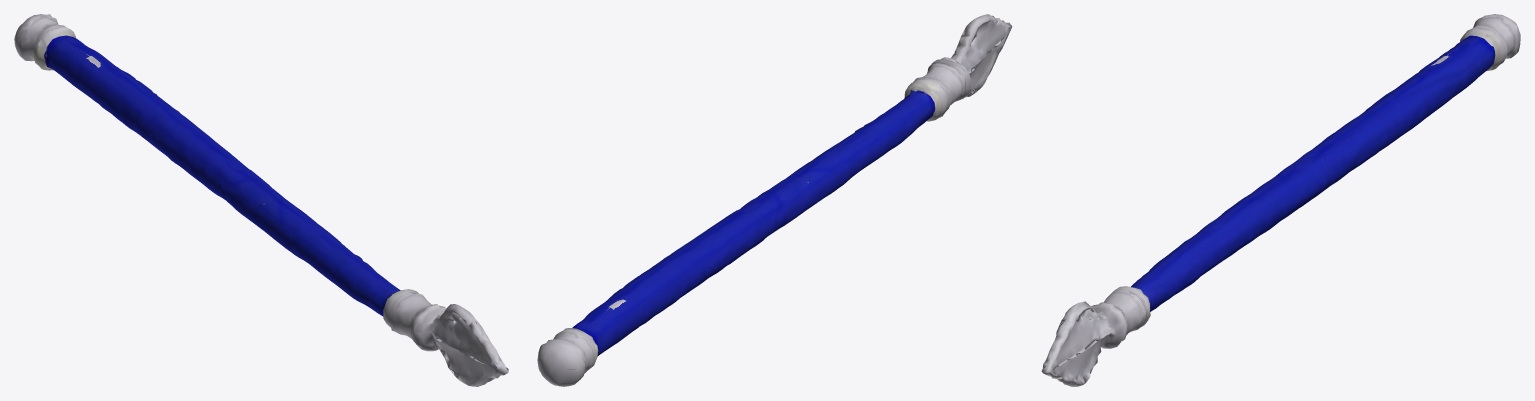
The model's file is w-spear.glb.
The picture shows the model from 3 angles, left to right: view 1: azimuth 30°, elevation 25°; view 2: azimuth 150°, elevation 25°; view 3: azimuth 330°, elevation 25°; orthographic projection.
Visible parts, largest first — view 1: weapon; view 2: weapon; view 3: weapon.
Part boxes in pixels (left/top/right/bottom): weapon: left=14, top=14, right=508, bottom=386; weapon: left=537, top=14, right=1012, bottom=386; weapon: left=1041, top=14, right=1520, bottom=386.
Bounding box in the file's own units: 0.0555 × 0.0902 × 0.9962.
1 material, 1 textured.
